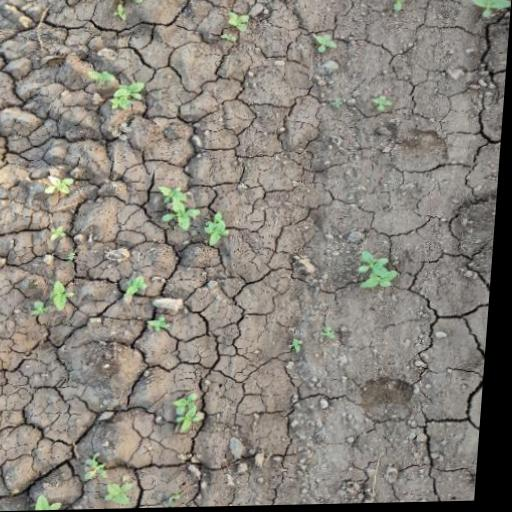crop: (84, 447, 148, 507), (43, 161, 83, 253), (87, 63, 156, 114), (24, 273, 80, 328), (156, 178, 207, 234), (353, 248, 407, 296), (174, 386, 213, 441), (301, 22, 346, 63), (204, 212, 239, 250), (465, 0, 512, 27)
